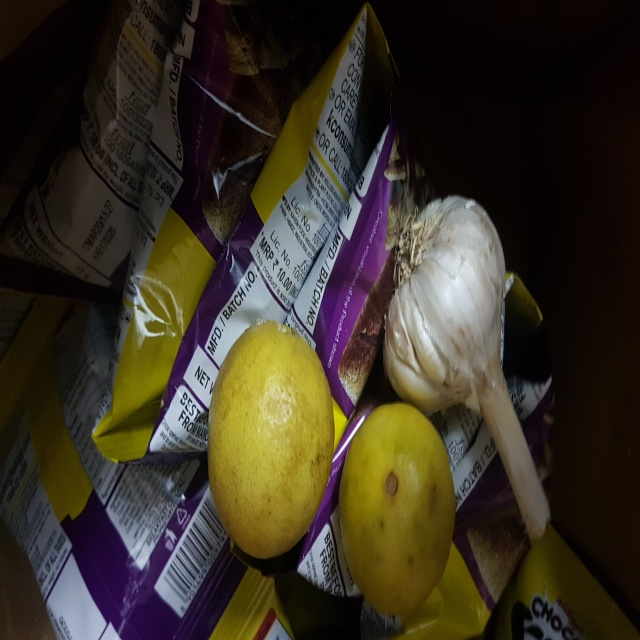garlic: (371, 185, 569, 549)
lemon: (194, 316, 342, 561), (340, 396, 460, 625)
